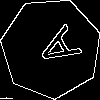A: (26, 23, 83, 76)
